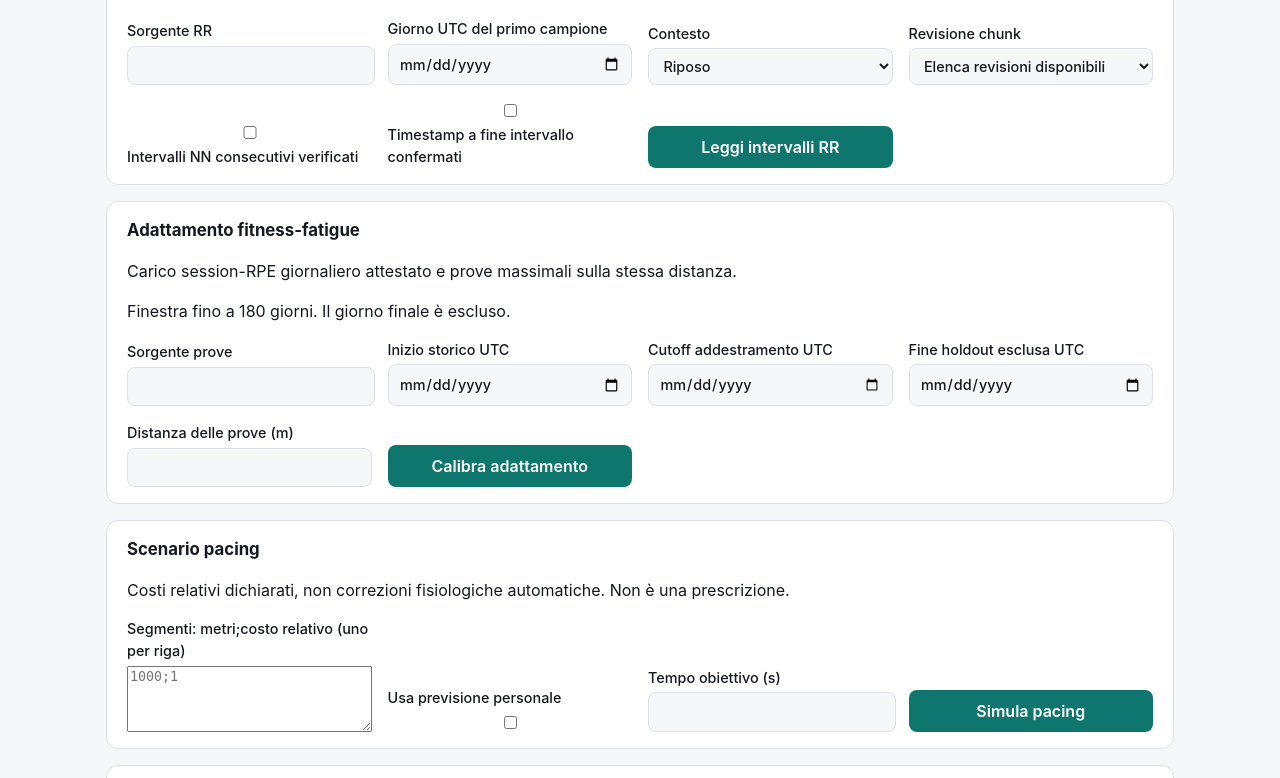
Test: adattamento personale › mostra la calibrazione, la baseline e le prove, senza inventare i mancanti
(page scrolled)
Type "samsung-health" into the field labelled "Sorgente prove" at {"x": 251, "y": 386}, box [127, 366, 375, 406]
Type "2026-01-01" into the date field labelled "Inizio storico UTC" at {"x": 510, "y": 385}, box [388, 364, 632, 406]
(page scrolled)
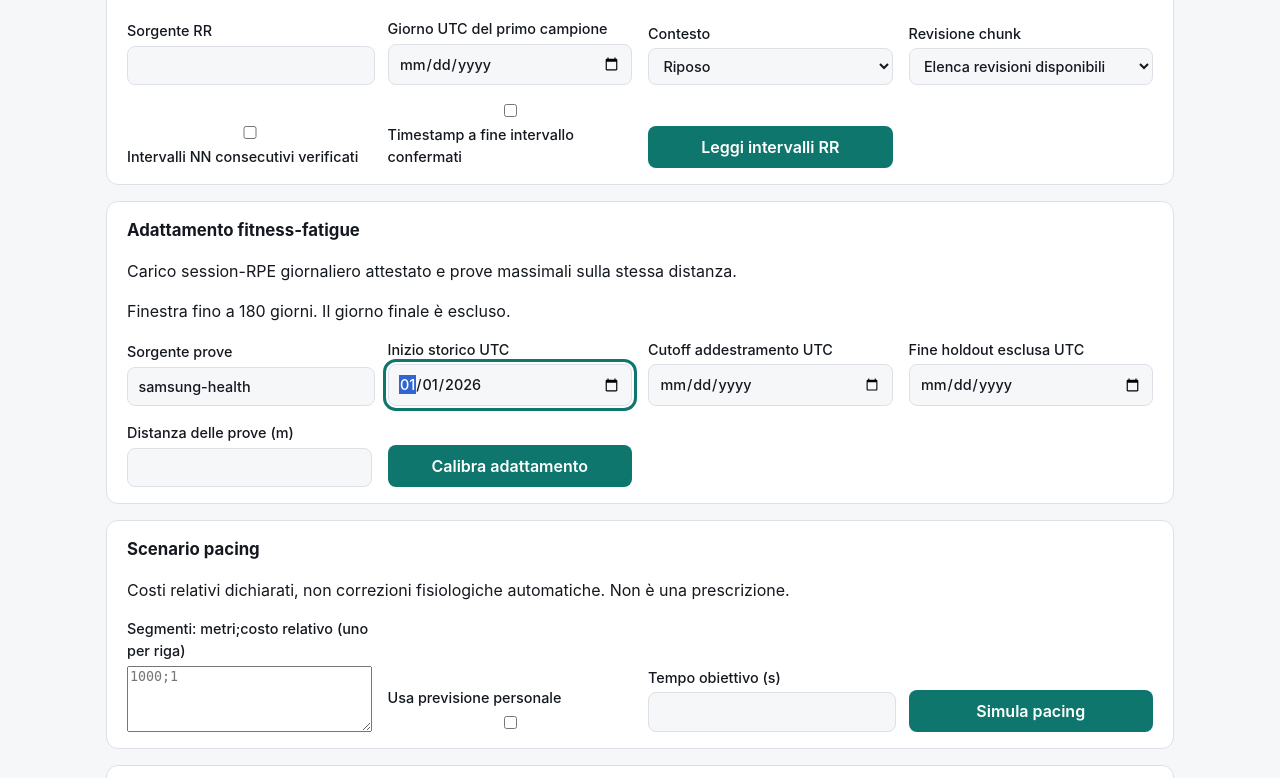
Type "2026-02-01" into the date field labelled "Cutoff addestramento UTC" at {"x": 770, "y": 385}, box [648, 364, 892, 406]
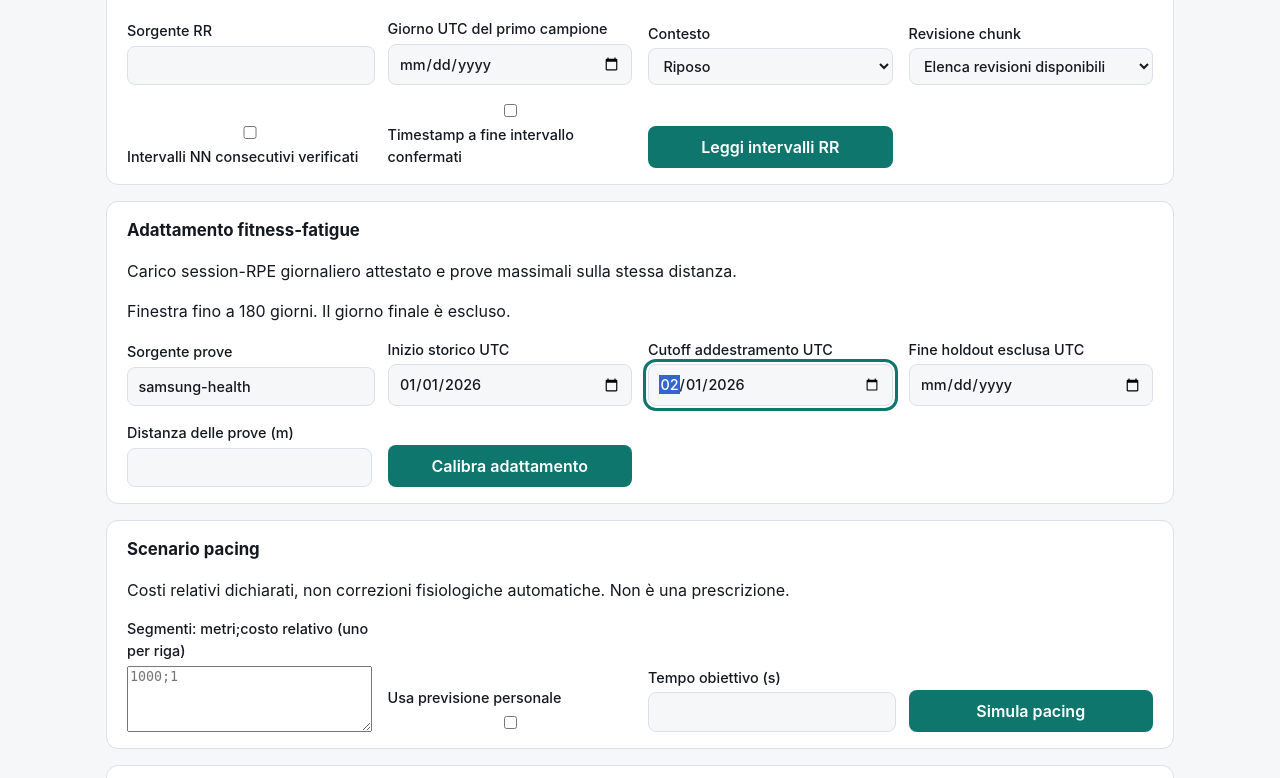
Type "2026-03-01" into the date field labelled "Fine holdout esclusa UTC" at {"x": 1031, "y": 385}, box [908, 364, 1153, 406]
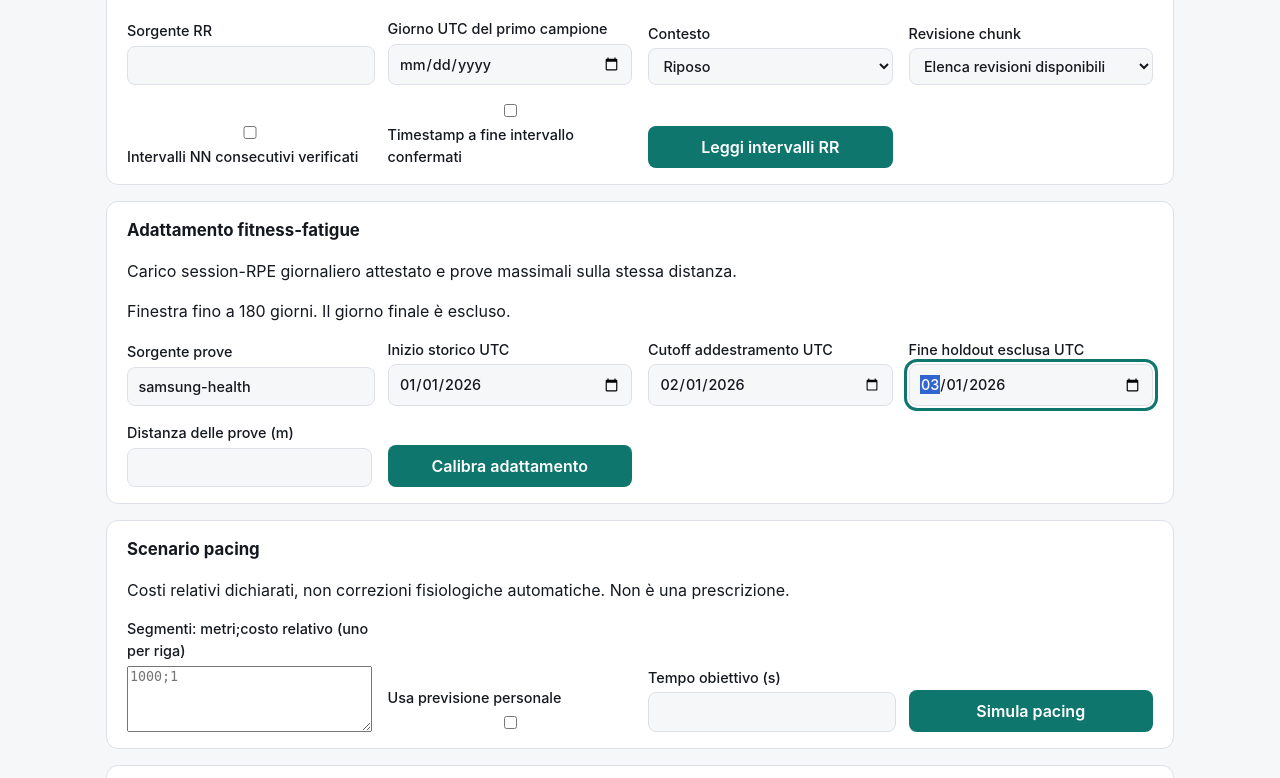
Type "5000" into the number field labelled "Distanza delle prove (m)" at {"x": 249, "y": 468}, box [127, 448, 372, 487]
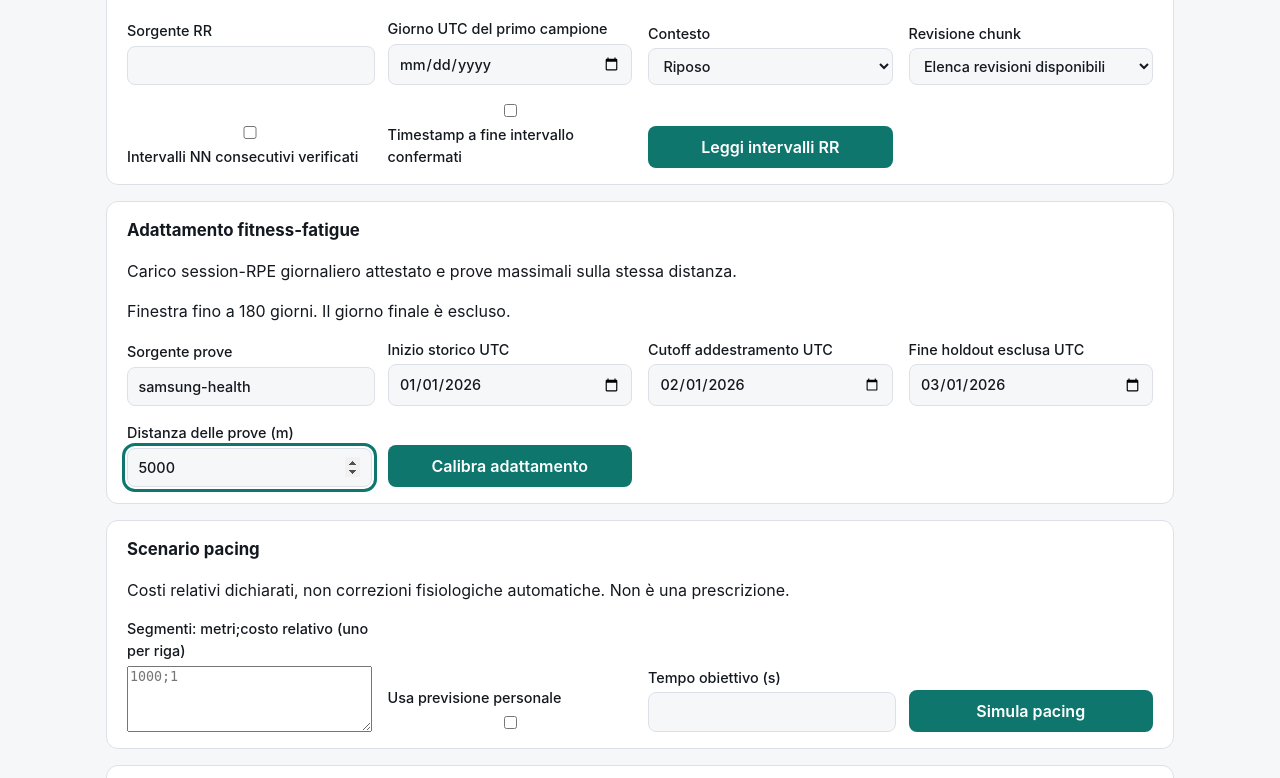
Click the button "Calibra adattamento" at {"x": 510, "y": 466}, box [388, 445, 632, 487]
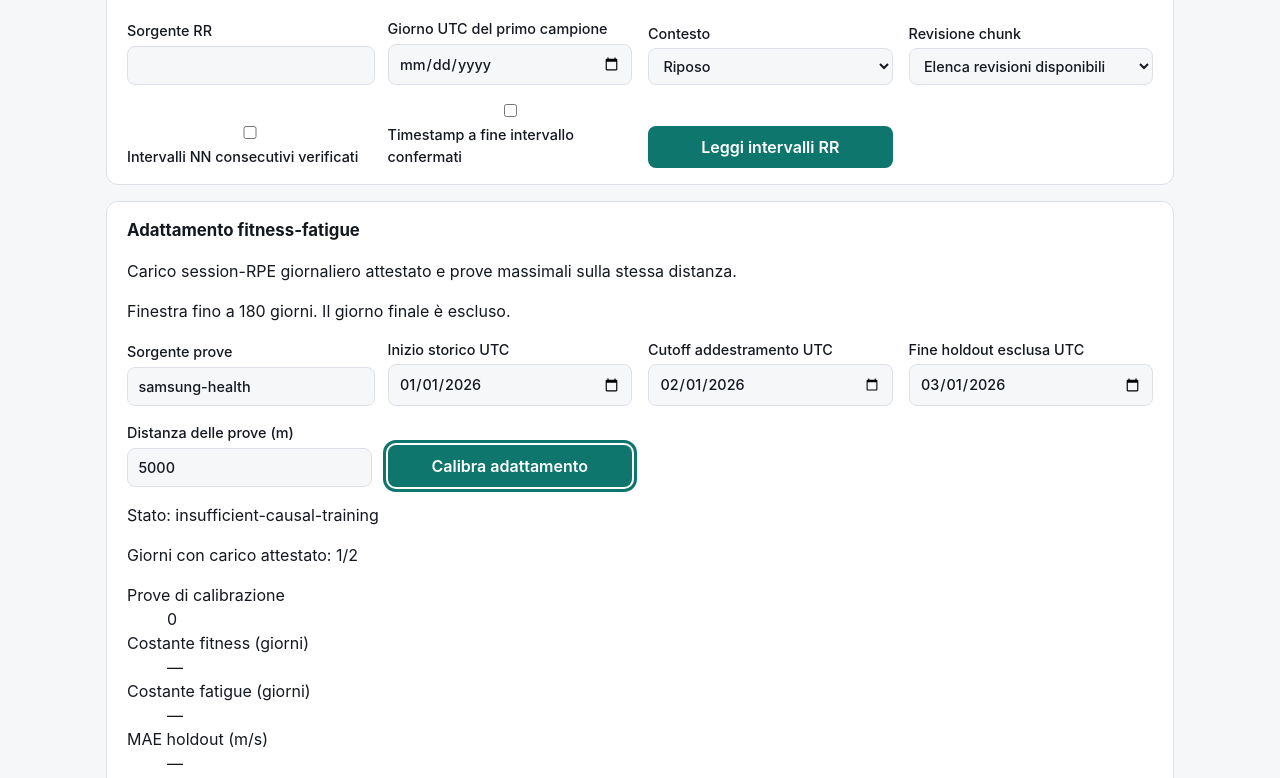
Expected: the text "Stato: insufficient-causal-training" is shown, [127, 505, 379, 525]
Expected: the text "Giorni con carico attestato: 1/2" is shown, [127, 545, 358, 565]
Click the button "Calibra adattamento" at {"x": 510, "y": 466}, box [388, 445, 632, 487]
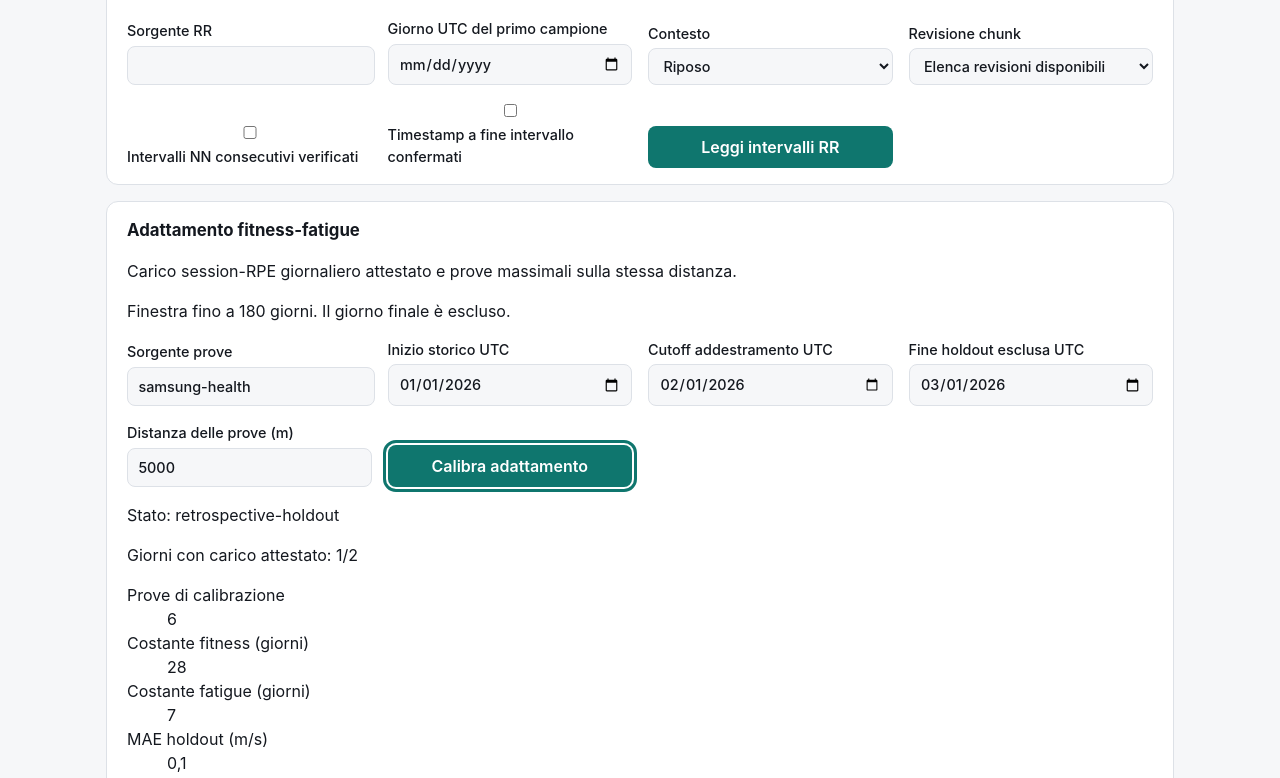
Expected: the text "Stato: retrospective-holdout" is shown, [127, 505, 339, 525]
Expected: the text "0,1" is shown, [167, 753, 186, 773]
Expected: the text "28" is shown, [167, 657, 187, 677]
